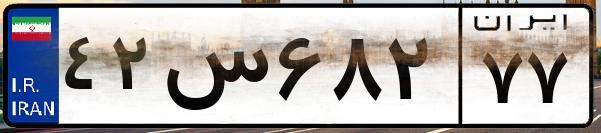2: (385, 28, 445, 110), (110, 28, 158, 98)
4: (57, 26, 110, 100)
6: (270, 28, 330, 110)
7: (475, 38, 525, 113), (525, 38, 570, 115)
8: (330, 28, 385, 110)
س: (158, 20, 270, 120)
